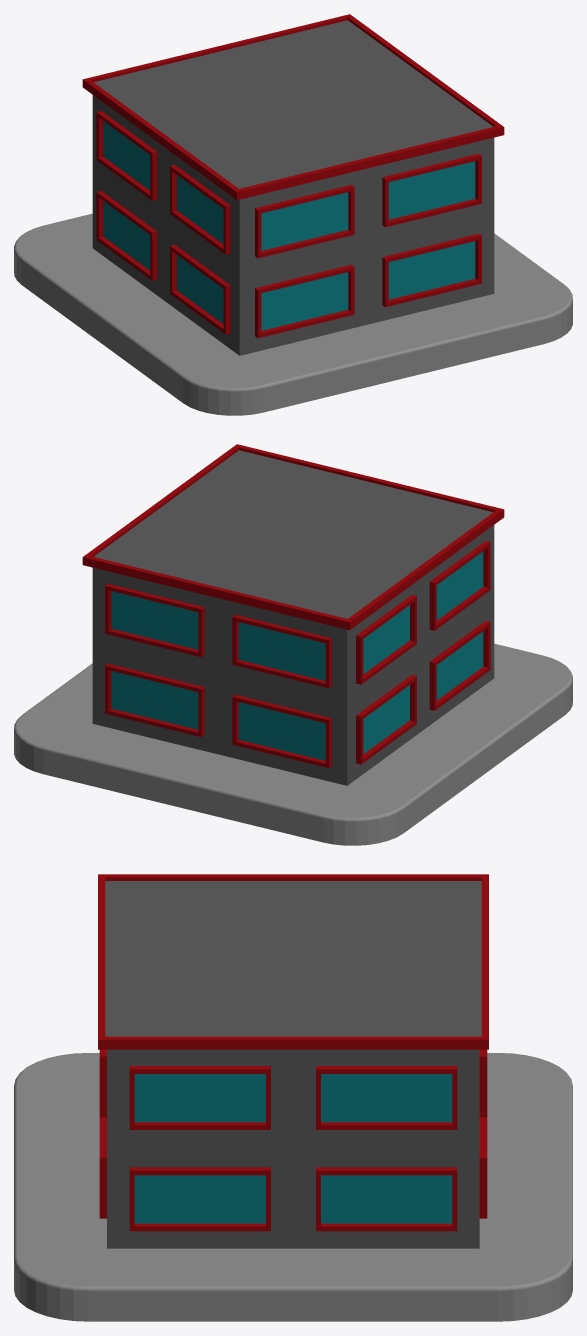
File: structure_research_institute.fbx
The picture shows the model from 3 angles, top to bottom: view 1: azimuth 30°, elevation 25°; view 2: azimuth 150°, elevation 25°; view 3: azimuth 270°, elevation 25°; orthographic projection. The views are drawn at different scales.
Visible parts, largest first — view 1: ResearchInstitute; view 2: ResearchInstitute; view 3: ResearchInstitute.
Part boxes in pixels (x1,y1,x2,y2): ResearchInstitute: (14,14,572,415); ResearchInstitute: (14,444,572,845); ResearchInstitute: (14,874,572,1321).
Size of the model in its own units: 0.75 by 0.75 by 0.365.
